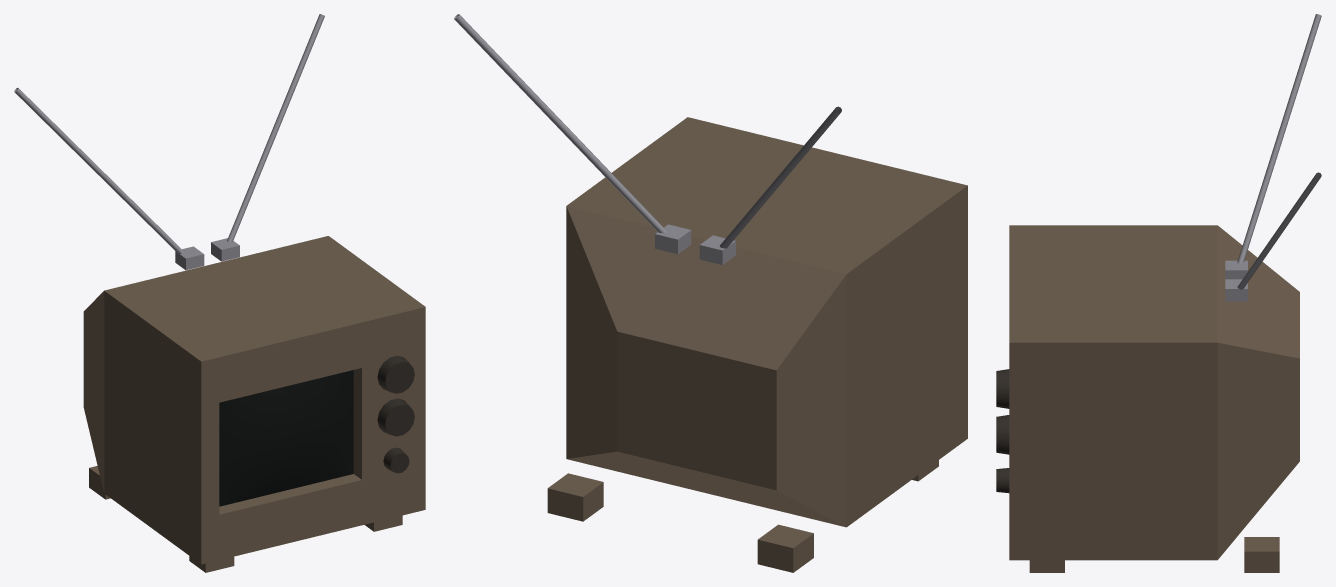
File: crt_tv.obj
3 renders of one model, left to right at view 1: azimuth 30°, elevation 25°; view 2: azimuth 150°, elevation 25°; view 3: azimuth 270°, elevation 25°, orthographic. The views are drawn at different scales.
Parts seen in each view (by area): view 1: TV_Body, TV_Screen, TV_Antenna, TV_Knob; view 2: TV_Body, TV_Antenna; view 3: TV_Body, TV_Antenna, TV_Knob.
Part boxes in pixels (box(x1,y1,x2,y2)): TV_Body: box(83, 236, 425, 572); TV_Screen: box(219, 370, 353, 506); TV_Antenna: box(14, 14, 324, 270); TV_Knob: box(377, 355, 414, 473); TV_Body: box(547, 117, 967, 572); TV_Antenna: box(454, 14, 841, 264); TV_Body: box(1009, 225, 1299, 572); TV_Antenna: box(1225, 14, 1321, 301); TV_Knob: box(996, 369, 1009, 493).
Bounding box in the file's own units: 0.6078 × 0.7481 × 0.5158.
